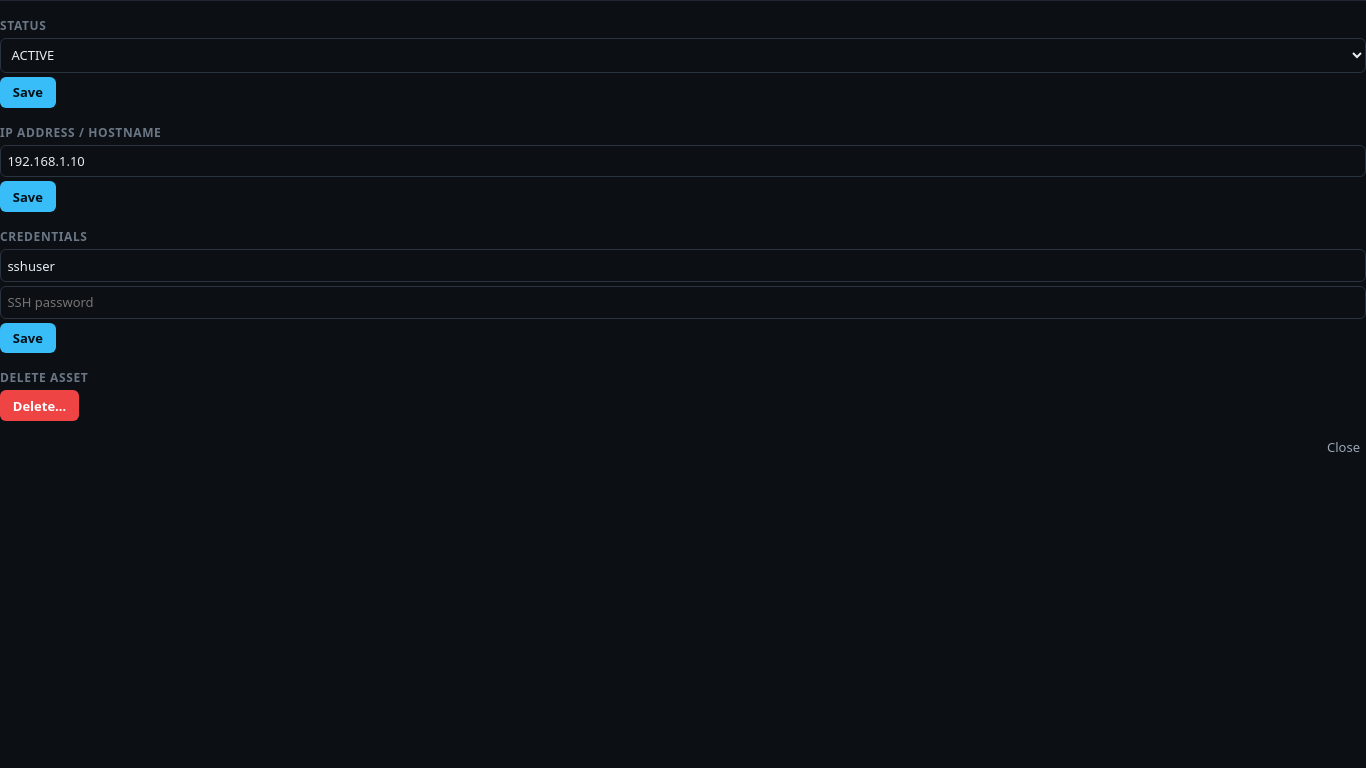
EditAssetPanelComponent › opens a confirm dialog before deleting and cancels leave asset unchanged
Step 1. Click the button with test id "delete-button" → coordinates (40, 406), box top-left (0, 390), bottom-right (79, 421)
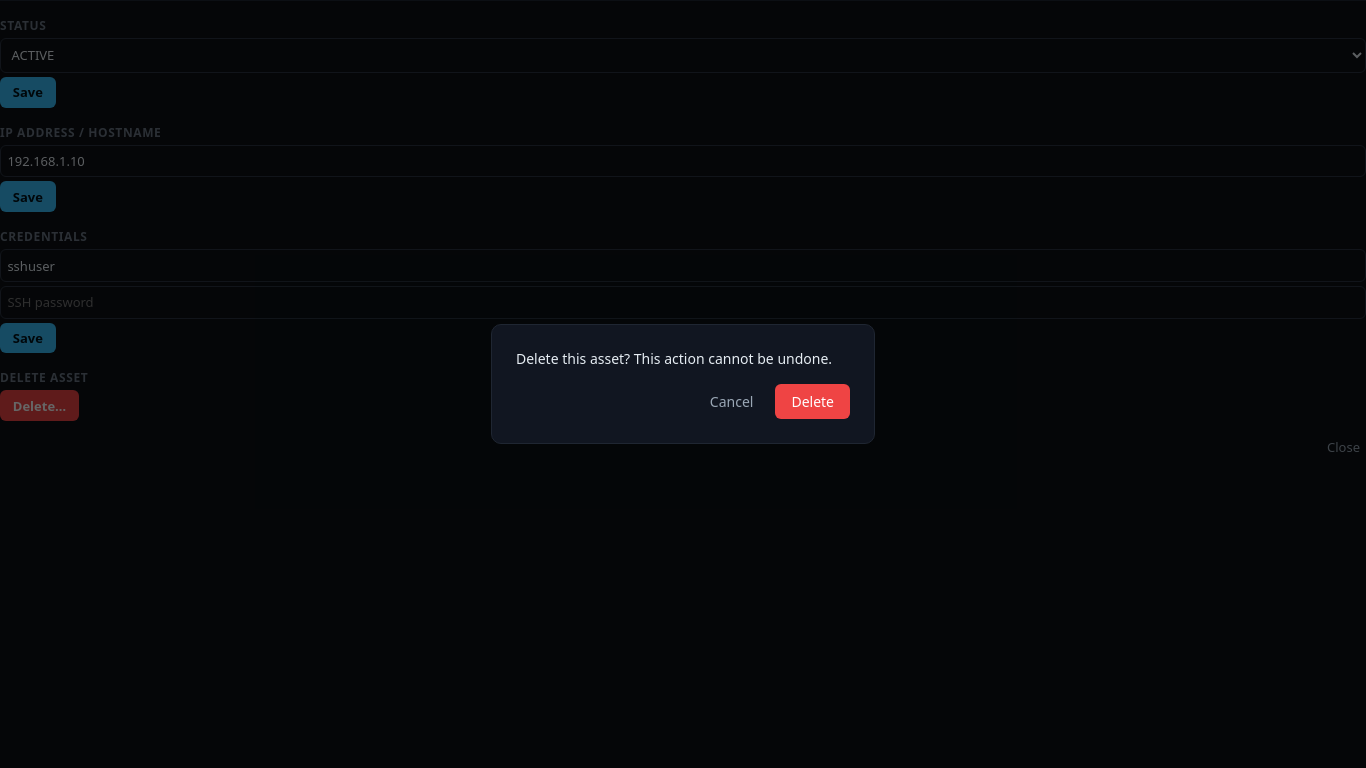
Expected: the dialog with test id "confirm-dialog" is shown, top-left (491, 324), bottom-right (875, 444)
Step 2. Click the button with test id "cancel-button" → coordinates (732, 402), box top-left (704, 384), bottom-right (759, 419)
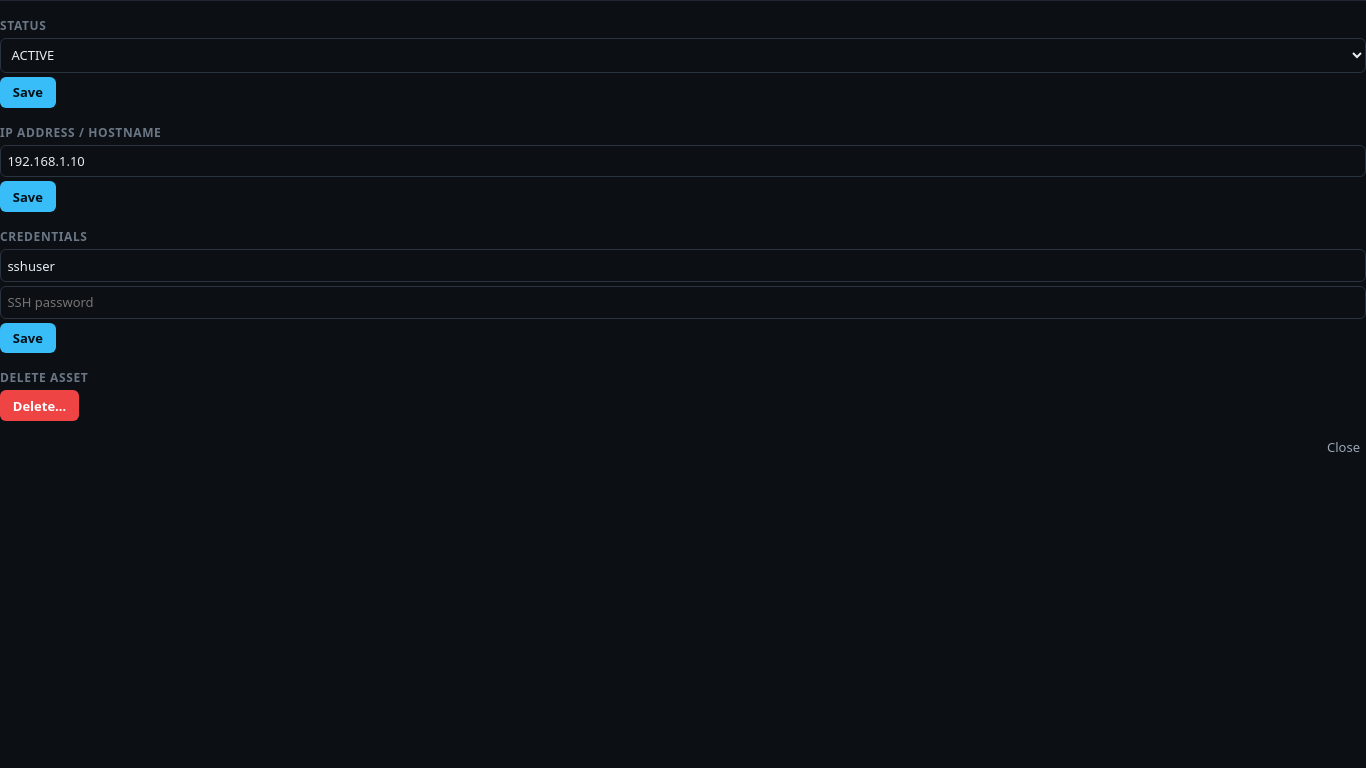
Expected: the dialog with test id "confirm-dialog" is gone
